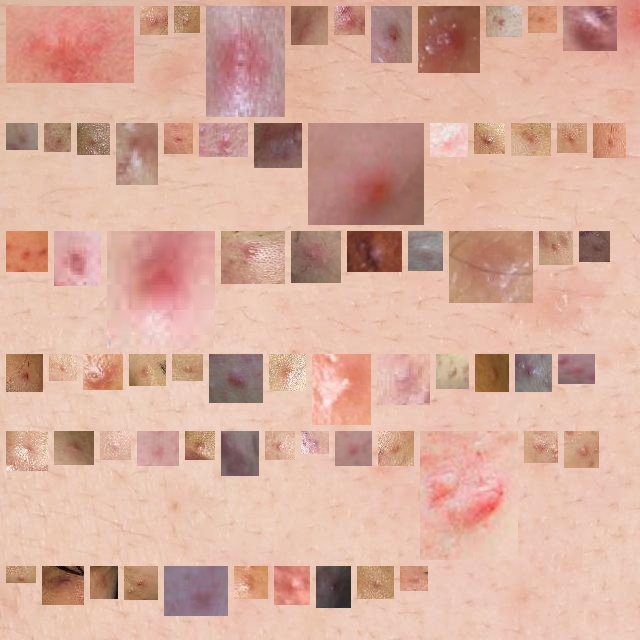papule: (115, 239, 207, 340), (316, 131, 424, 217), (428, 439, 510, 552), (14, 14, 126, 80), (214, 14, 277, 109), (457, 239, 525, 295), (320, 362, 363, 417), (426, 14, 472, 65), (229, 239, 277, 276), (172, 574, 220, 608), (385, 362, 422, 397), (217, 362, 255, 395), (299, 239, 333, 275), (62, 239, 93, 278), (124, 131, 150, 177), (571, 14, 609, 43), (379, 14, 404, 55), (355, 239, 394, 264), (262, 131, 294, 160), (14, 239, 40, 264), (229, 439, 251, 468), (14, 439, 40, 463), (50, 574, 76, 597), (207, 131, 240, 149), (145, 439, 171, 458), (324, 574, 343, 600), (299, 14, 320, 37), (91, 362, 115, 382), (14, 362, 35, 384), (523, 362, 544, 384), (282, 574, 302, 597), (416, 239, 435, 263), (277, 362, 298, 383), (62, 439, 86, 457), (519, 131, 543, 148), (343, 439, 364, 458), (572, 439, 591, 460), (438, 131, 460, 149), (483, 362, 501, 384), (386, 439, 406, 458), (365, 574, 386, 591), (137, 362, 158, 378), (547, 239, 565, 257), (132, 574, 150, 592), (601, 131, 618, 150), (444, 362, 461, 381), (242, 574, 260, 591), (494, 14, 514, 29), (566, 362, 587, 376), (532, 439, 550, 455), (85, 131, 102, 147), (482, 131, 497, 146), (587, 239, 602, 254), (98, 574, 110, 591), (565, 131, 579, 145), (342, 14, 357, 27), (172, 131, 185, 146), (108, 439, 123, 452), (193, 439, 207, 452), (273, 439, 287, 452), (14, 131, 30, 142), (180, 362, 195, 373), (148, 14, 160, 27), (536, 14, 549, 25), (52, 131, 63, 144), (57, 362, 69, 373), (14, 574, 28, 582), (182, 14, 192, 25), (408, 574, 420, 583), (309, 439, 321, 446)
